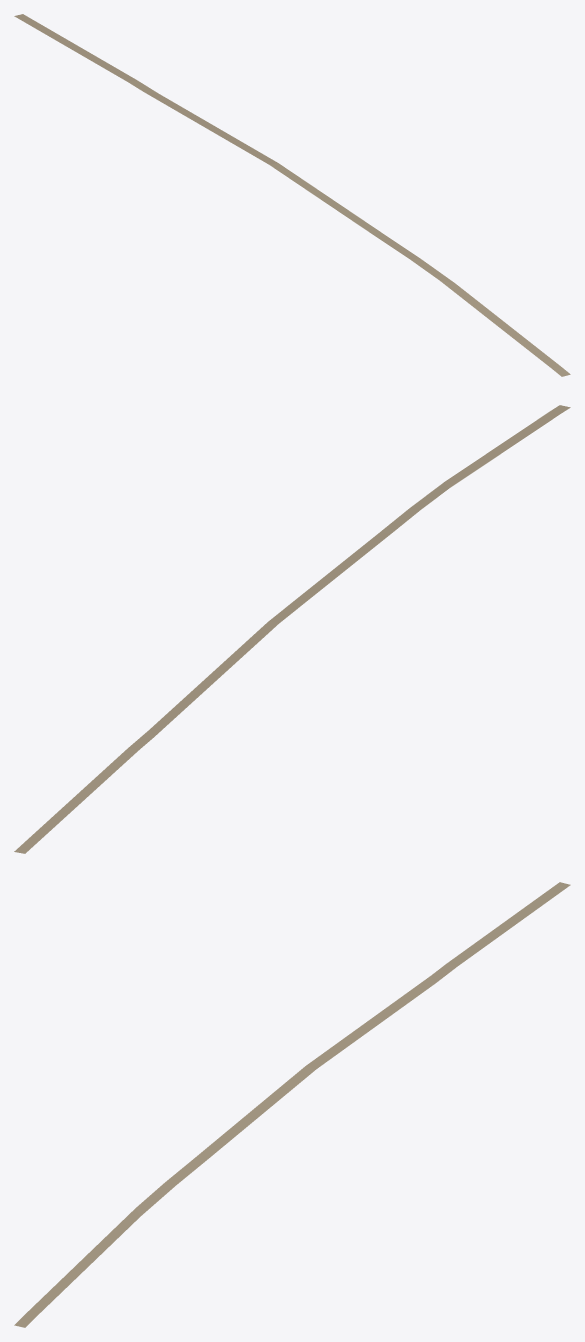
File: farm_-32_-25_track.glb
3 views of the same model, one above another, from view 1: azimuth 30°, elevation 25°; view 2: azimuth 150°, elevation 25°; view 3: azimuth 330°, elevation 25° (orthographic). The views are drawn at different scales.
Visible parts, largest first — view 1: geometry_0; view 2: geometry_0; view 3: geometry_0.
Part boxes in pixels (x1,y1,x2,y2): geometry_0: [14, 14, 570, 376]; geometry_0: [14, 405, 570, 853]; geometry_0: [14, 882, 570, 1327].
Bounding box in the file's own units: 17.31 × 6.85 × 310.
